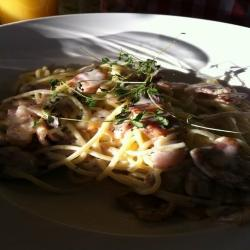carbonara: (2, 48, 249, 232)
